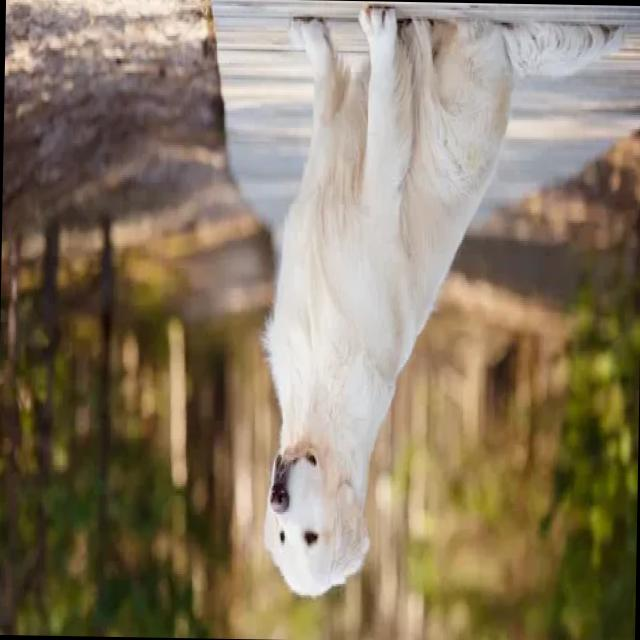Dog: (260, 2, 420, 606)
